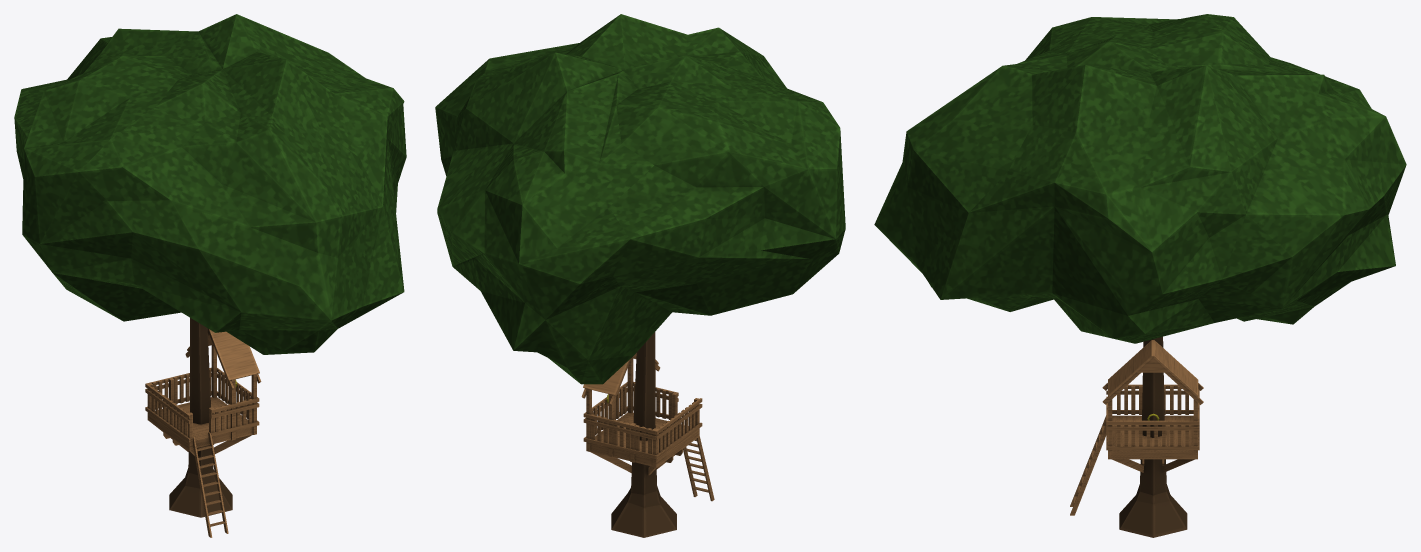
Rendered from Treehouse.gltf.
The picture shows the model from 3 angles, left to right: view 1: azimuth 30°, elevation 25°; view 2: azimuth 150°, elevation 25°; view 3: azimuth 270°, elevation 25°; orthographic projection. The views are drawn at different scales.
Visible parts, largest first — view 1: node-0; view 2: node-0; view 3: node-0.
Part boxes in pixels (x1=…): node-0: x1=14, y1=14, x2=406, y2=537; node-0: x1=435, y1=14, x2=845, y2=537; node-0: x1=874, y1=14, x2=1406, y2=537.
Bounding box in the file's own units: 30.33 × 34.42 × 34.05.
Materials: 1 (1 with a texture image).
